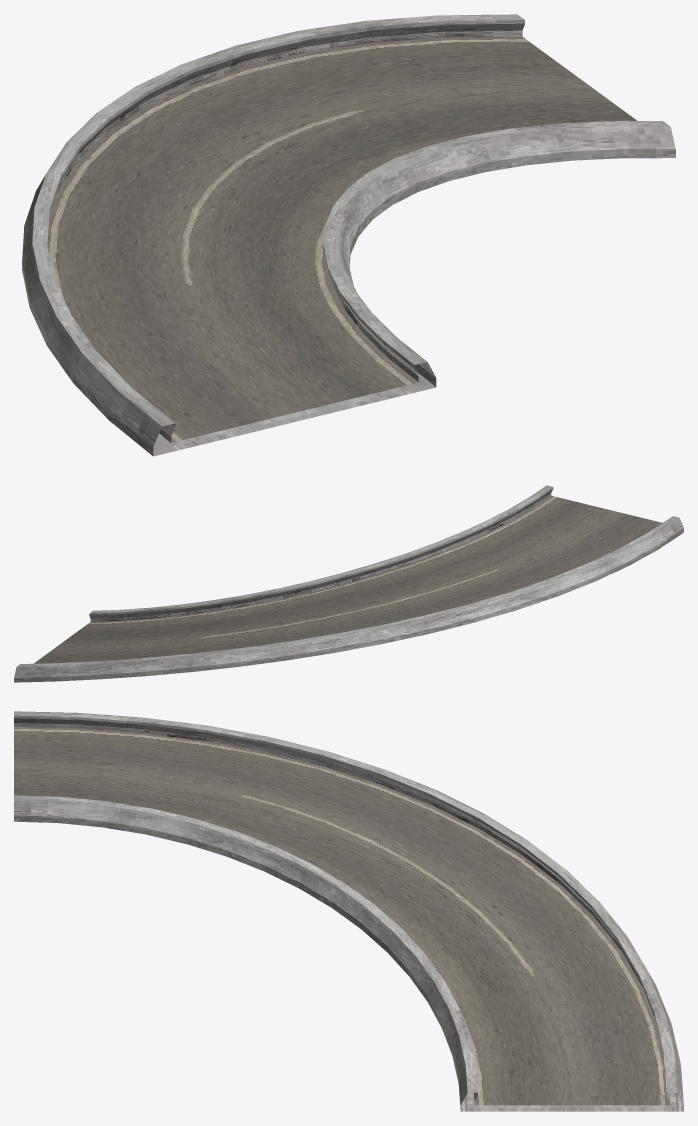
Rendered from road-Turn-Flat-BiSlopeDown-Down2-Right-Size3.glb.
3 views of the same model, one above another, from view 1: azimuth 30°, elevation 25°; view 2: azimuth 150°, elevation 25°; view 3: azimuth 270°, elevation 25° (orthographic). The views are drawn at different scales.
Parts seen in each view (by area): view 1: road-Turn-Flat-BiSlopeDown-Down2-Right-Size3; view 2: road-Turn-Flat-BiSlopeDown-Down2-Right-Size3; view 3: road-Turn-Flat-BiSlopeDown-Down2-Right-Size3.
Part boxes in pixels (box(x1,y1,x2,y2)): road-Turn-Flat-BiSlopeDown-Down2-Right-Size3: box(22, 14, 675, 456); road-Turn-Flat-BiSlopeDown-Down2-Right-Size3: box(14, 485, 683, 682); road-Turn-Flat-BiSlopeDown-Down2-Right-Size3: box(14, 711, 683, 1111).
Bounding box in the file's own units: 3 × 0.5938 × 3.
Materials: 2 (2 with a texture image).
